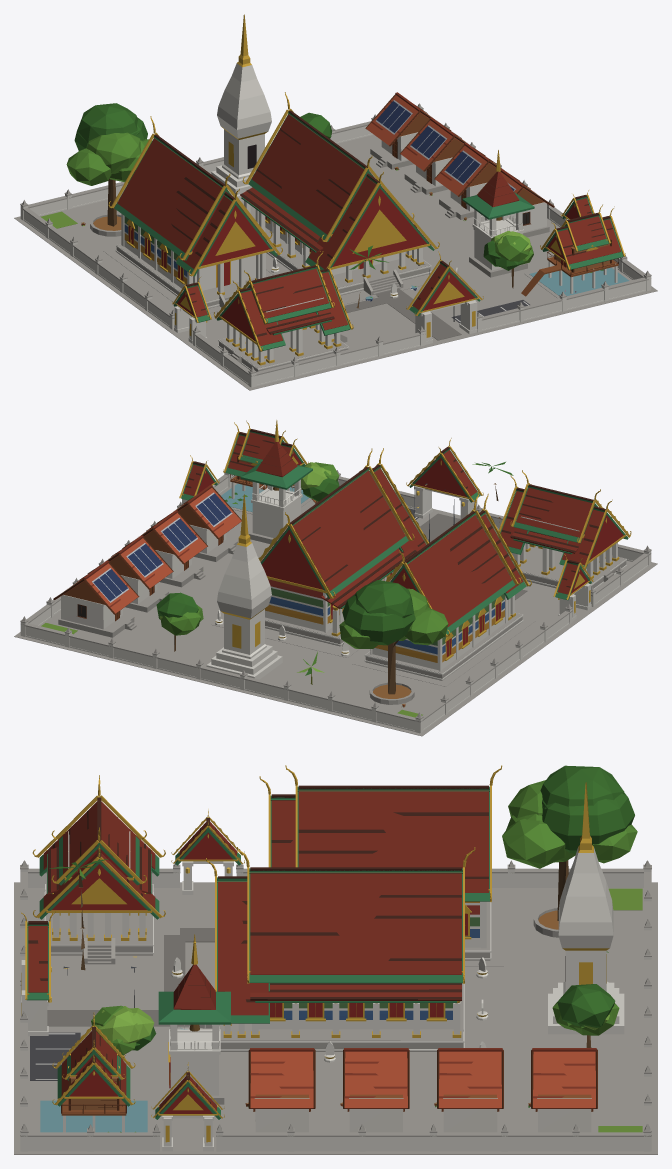
Rendered from temple_3.glb.
3 views of the same model, one above another, from view 1: azimuth 30°, elevation 25°; view 2: azimuth 150°, elevation 25°; view 3: azimuth 270°, elevation 25° (orthographic). The views are drawn at different scales.
Visible parts, largest first — view 1: body; view 2: body; view 3: body.
Boxes of the visible parts, x1,y1,x2,y2 form: body: (14, 14, 657, 390); body: (14, 420, 657, 736); body: (14, 765, 657, 1154).
Bounding box in the file's own units: 47.9 × 19.72 × 47.9.
